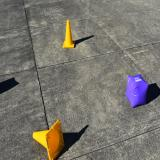cone: (32, 119, 65, 160), (63, 21, 75, 48)
cube: (125, 74, 149, 108)
